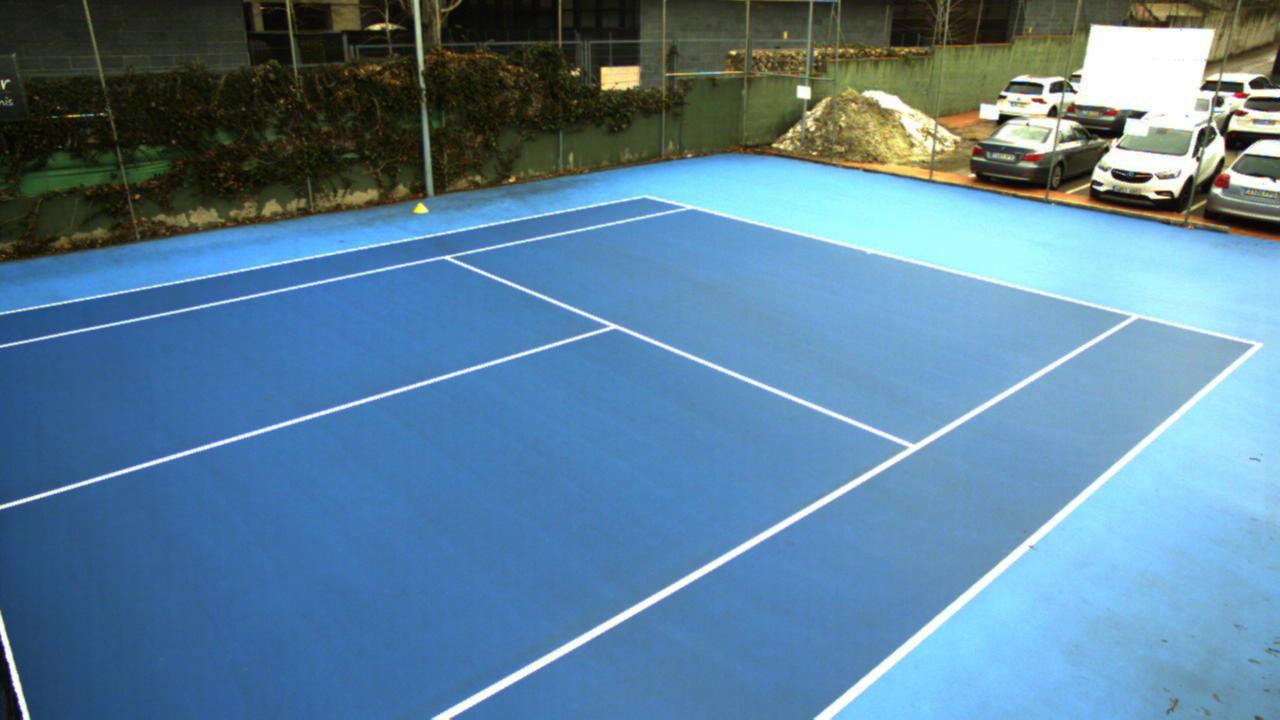cancha_tenis: (0, 206, 1139, 720)
point_f1: (679, 197, 701, 214)
point_f2: (1118, 302, 1147, 329)
point_fc1: (862, 242, 877, 260)
point_i1: (437, 244, 462, 270)
point_i2: (895, 437, 923, 460)
point_ic1: (597, 312, 627, 340)
